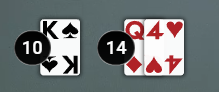4: (144, 17, 167, 45)
k: (38, 18, 62, 42)
q: (122, 18, 146, 44)
